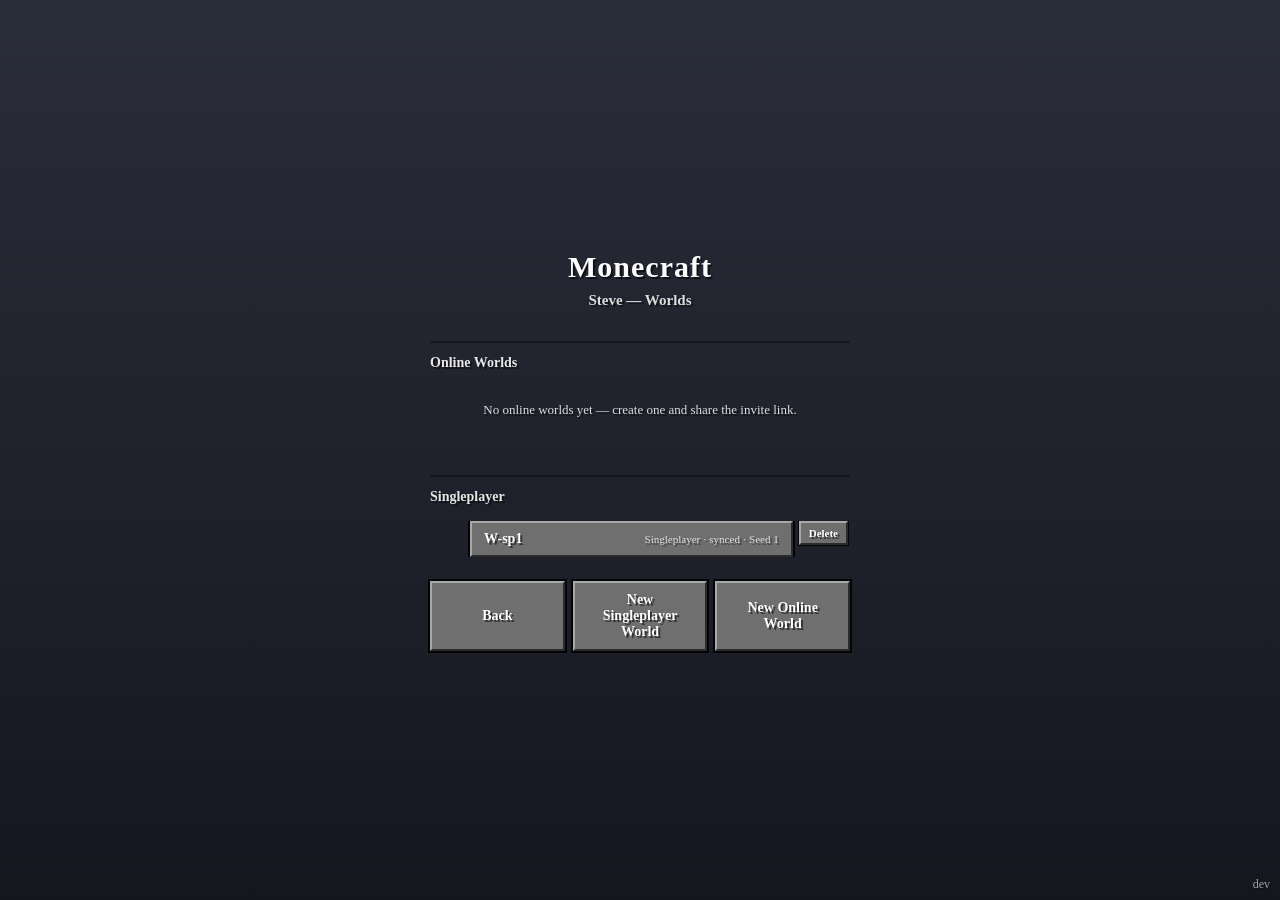
Test: OnlineWorldSelect › deleting a singleplayer world asks for confirmation first
Expected: the text "W-sp1" is shown, [484,530,522,546]
Click the button "Delete": (823, 532) [799,520,848,544]
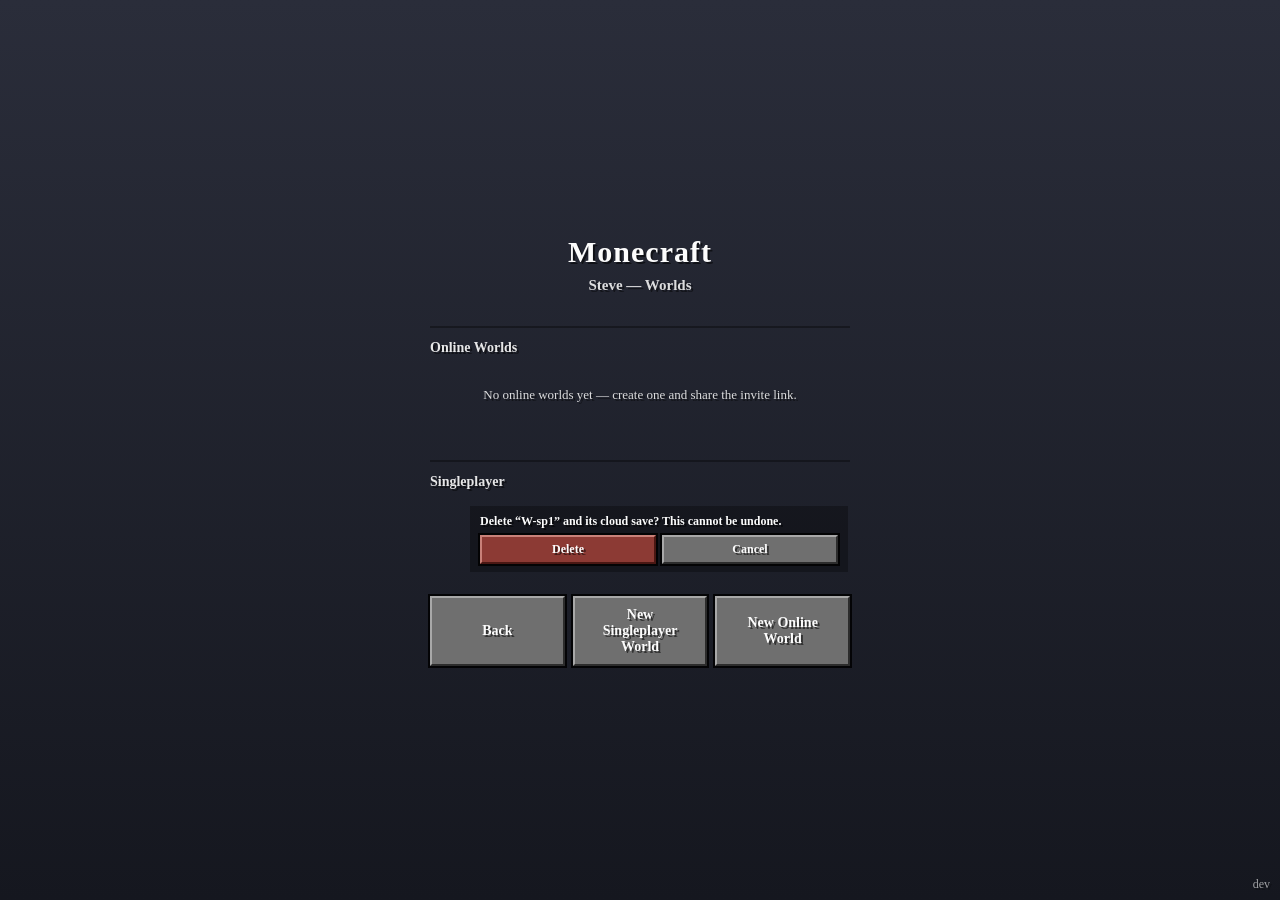
Click the button "Delete": (568, 549) [480,534,656,564]
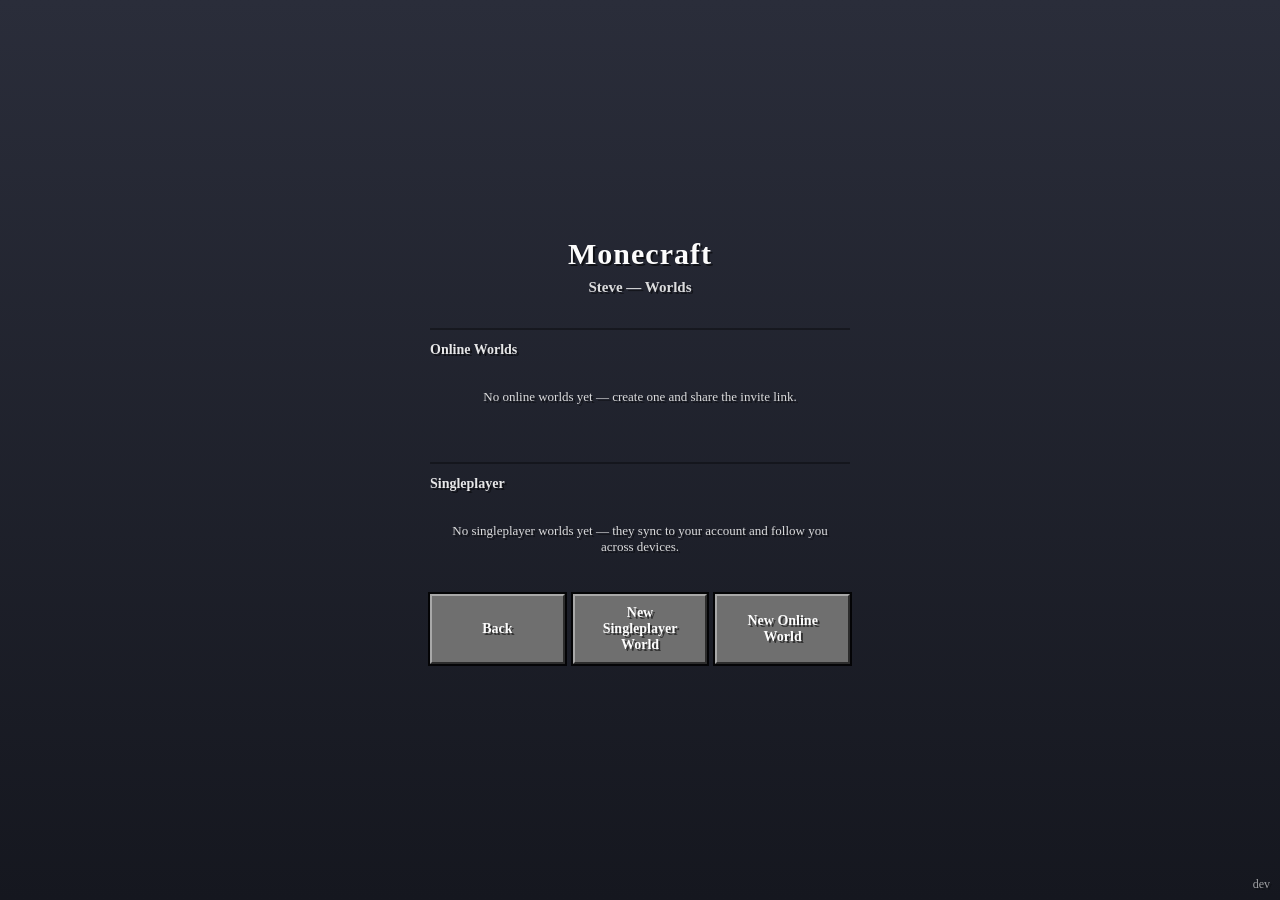
Expected: the text "W-sp1" is gone
